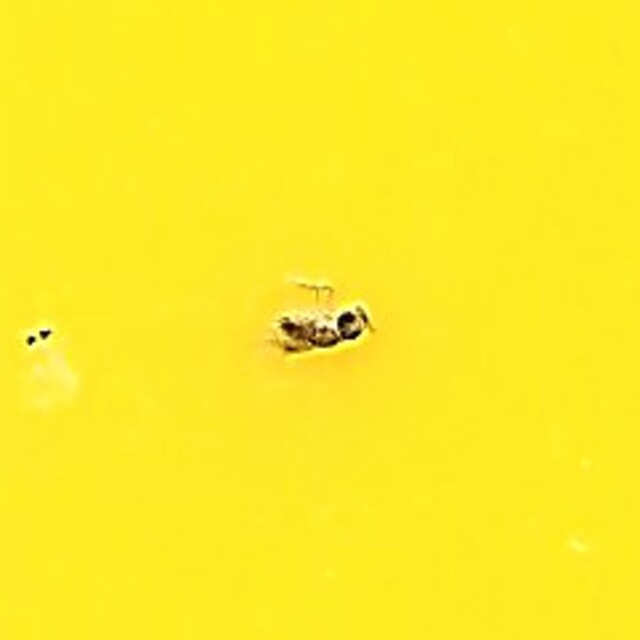Brachycera: (266, 278, 374, 362)
